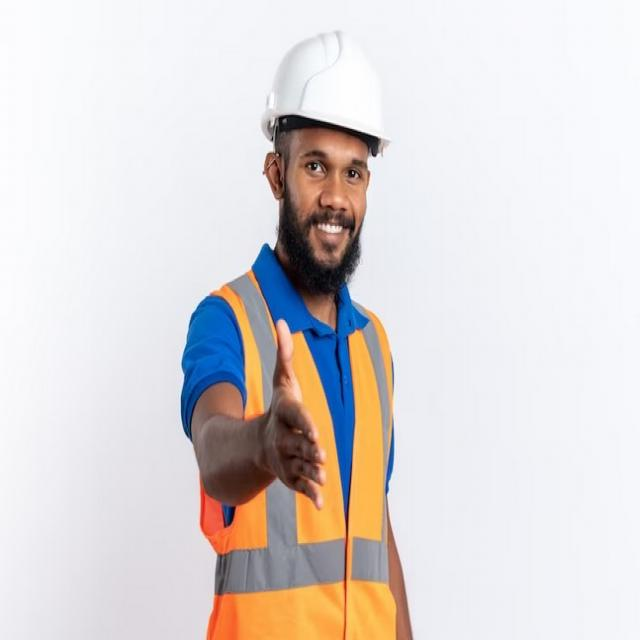helmet: (255, 18, 399, 176)
